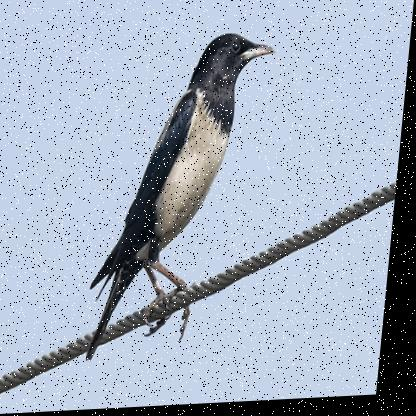Burung: (91, 31, 282, 364)
